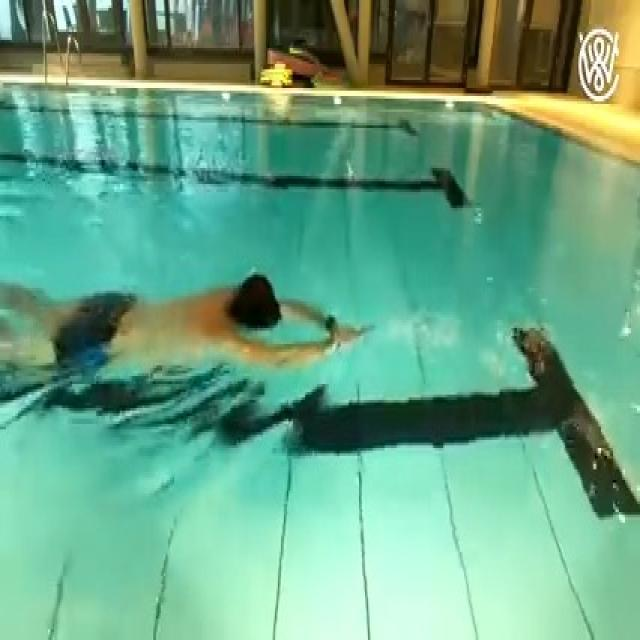Swimming: (1, 274, 372, 394)
